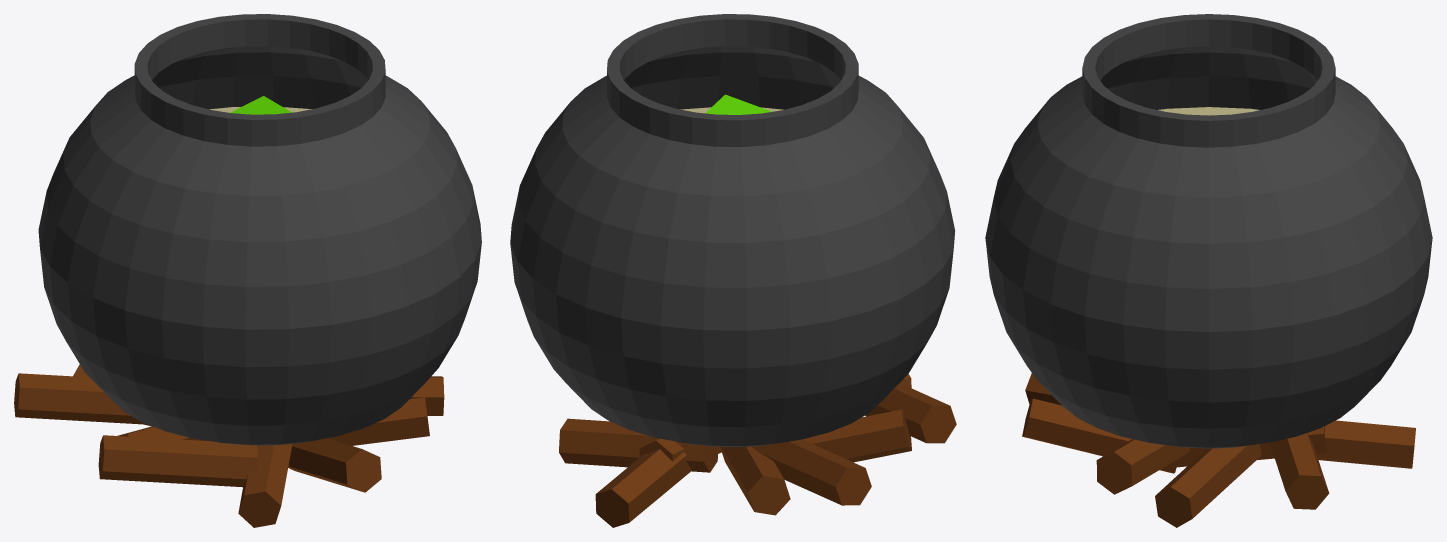
File: pot.fbx
3 views of the same model, side by side, from view 1: azimuth 30°, elevation 25°; view 2: azimuth 150°, elevation 25°; view 3: azimuth 270°, elevation 25° (orthographic).
Visible parts, largest first — view 1: pot, shiba; view 2: pot, shiba; view 3: pot, shiba.
Boxes of the visible parts, x1,y1,x2,y2 form: pot: [38, 14, 481, 445]; shiba: [14, 364, 444, 527]; pot: [510, 14, 955, 446]; shiba: [559, 374, 956, 527]; pot: [985, 14, 1432, 448]; shiba: [1022, 373, 1415, 527].
Bounding box in the file's own units: 200 × 196 × 200.
